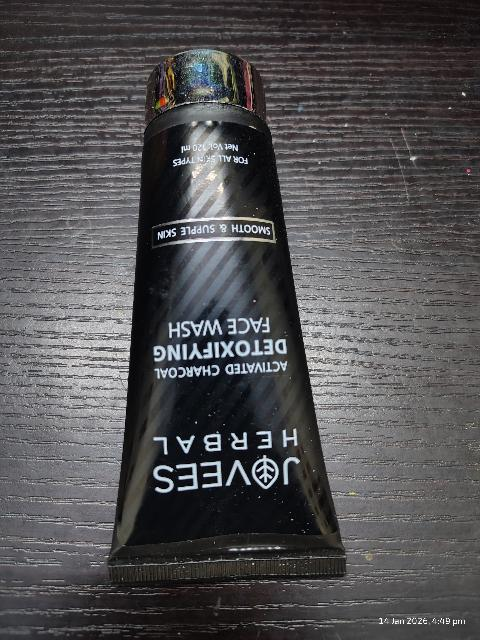jovees herbal: (105, 54, 323, 575)
